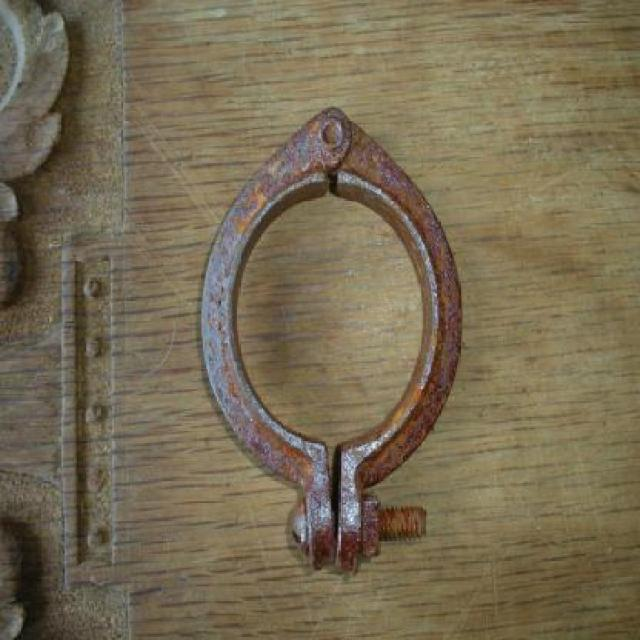corrosion: (196, 109, 467, 586)
